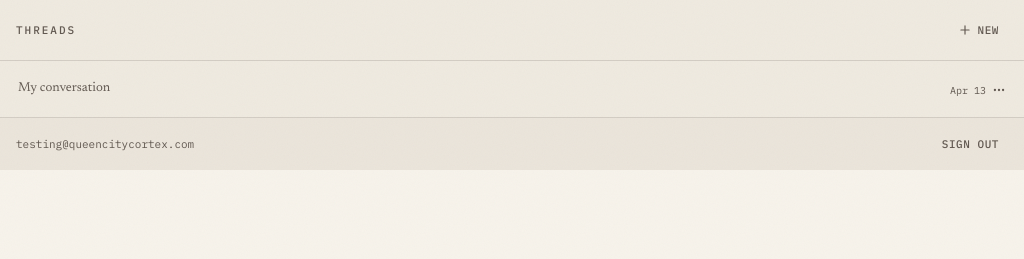
it: ThreadSidebar › surfaces an inline error when duplicate fails
Step 1. Click the button named "Thread actions for My conversation" → [999, 90], box [990,81,1008,99]
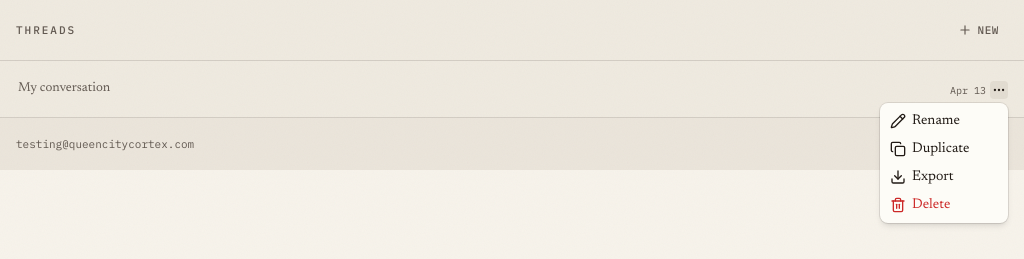
Step 2. Click the menu item with test id "thread-duplicate" → [930, 149], box [890,141,970,157]
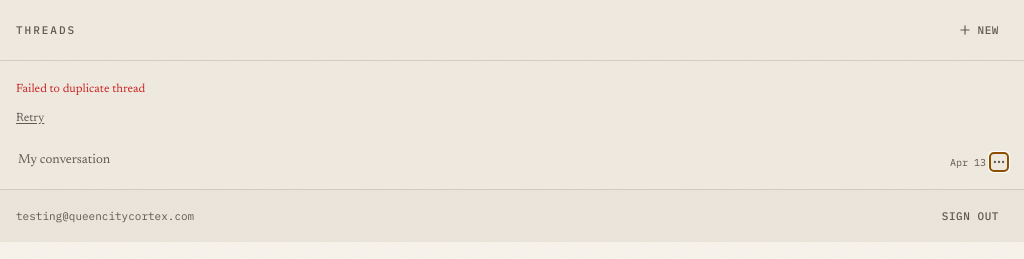
Expected: the text "Failed to duplicate thread" is shown, [16,83,145,95]
